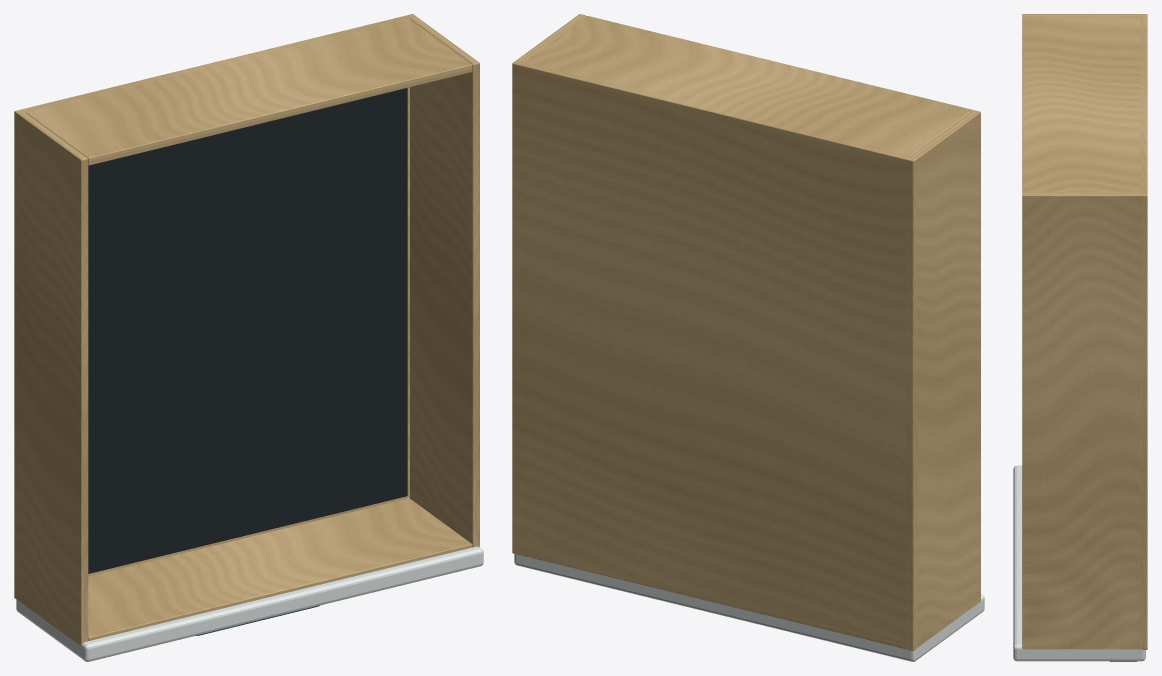
File: drawer.glb
3 renders of one model, left to right at view 1: azimuth 30°, elevation 25°; view 2: azimuth 150°, elevation 25°; view 3: azimuth 270°, elevation 25°, orthographic. The views are drawn at different scales.
Visible parts, largest first — view 1: Drawer felt lining, Drawer birch side, Drawer birch side.001, Drawer birch end.001, Drawer birch end, Drawer enamel fascia, Drawer birch floor; view 2: Drawer birch floor, Drawer birch side, Drawer birch end.001, Drawer enamel fascia, Drawer birch side.001, Drawer birch end; view 3: Drawer birch side.001, Drawer birch end.001, Drawer birch floor, Drawer enamel fascia, Drawer birch side.
Boxes of the visible parts, x1,y1,x2,y2 form: Drawer felt lining: (88, 88, 407, 573); Drawer birch side: (14, 110, 88, 645); Drawer birch side.001: (407, 14, 479, 547); Drawer birch end.001: (23, 16, 472, 165); Drawer birch end: (88, 498, 472, 640); Drawer enamel fascia: (16, 546, 483, 661); Drawer birch floor: (14, 14, 415, 599); Drawer birch floor: (512, 60, 917, 650); Drawer birch side: (907, 110, 980, 650); Drawer birch end.001: (520, 16, 973, 165); Drawer enamel fascia: (514, 554, 984, 661); Drawer birch side.001: (512, 14, 586, 554); Drawer birch end: (520, 551, 905, 648); Drawer birch side.001: (1022, 192, 1147, 649); Drawer birch end.001: (1022, 17, 1146, 192); Drawer birch floor: (1140, 14, 1147, 649); Drawer enamel fascia: (1013, 465, 1145, 661); Drawer birch side: (1022, 14, 1147, 17).
Bounding box in the file's own units: 0.48 × 0.606 × 0.15.
5 materials, 2 textured.
